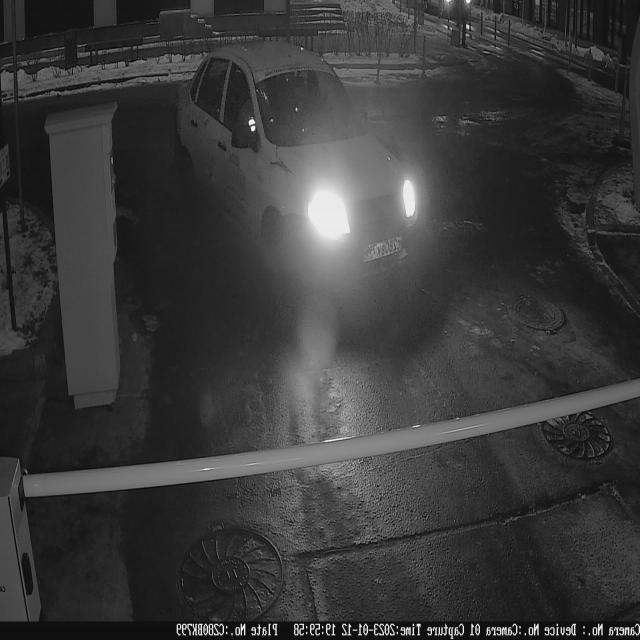car-plate-numbers: (364, 234, 405, 265)
